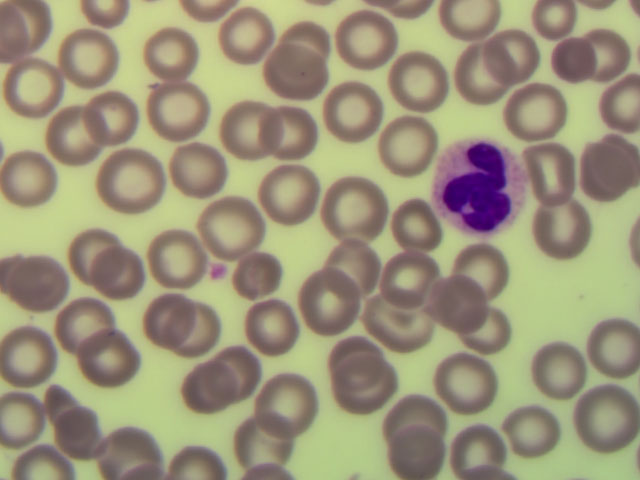Platelets: (209, 264, 229, 284)
RBC: (362, 277, 433, 353), (573, 382, 640, 457), (96, 140, 163, 212), (321, 174, 388, 242), (75, 324, 141, 393), (146, 224, 207, 297), (62, 389, 123, 460), (338, 14, 402, 75), (1, 323, 60, 387), (261, 163, 320, 227), (380, 243, 439, 307), (323, 237, 382, 301), (436, 348, 495, 412), (581, 316, 640, 380), (531, 335, 590, 399), (506, 402, 565, 466), (449, 416, 508, 480), (458, 416, 517, 480), (384, 385, 443, 449), (386, 416, 445, 480), (326, 326, 385, 390), (297, 272, 356, 336), (203, 197, 262, 261), (228, 248, 287, 312), (242, 300, 301, 364), (42, 101, 101, 165), (63, 226, 122, 290), (94, 243, 153, 307), (162, 297, 221, 361), (138, 292, 197, 356), (179, 359, 238, 423), (259, 370, 318, 434), (216, 403, 275, 467), (163, 416, 222, 480), (206, 346, 265, 410), (102, 416, 161, 480), (13, 416, 72, 480), (4, 55, 63, 119), (8, 250, 67, 314), (220, 98, 279, 162), (142, 23, 201, 87), (149, 77, 208, 141), (59, 25, 118, 89), (168, 140, 227, 204), (504, 80, 563, 144), (549, 24, 608, 88), (581, 22, 640, 86), (581, 18, 640, 82), (581, 76, 640, 140), (575, 144, 634, 208), (581, 128, 640, 192), (523, 136, 582, 200), (531, 199, 590, 263), (581, 215, 640, 279), (449, 244, 508, 308), (443, 282, 502, 346), (431, 267, 490, 331), (388, 51, 447, 115), (373, 109, 432, 173), (455, 40, 514, 104), (477, 21, 536, 85), (215, 4, 274, 68), (323, 79, 382, 143), (274, 12, 333, 76), (261, 102, 320, 166), (79, 89, 142, 148), (82, 1, 141, 64), (531, 1, 590, 64), (128, 1, 187, 64), (1, 386, 59, 450), (1, 143, 59, 207), (62, 389, 115, 459), (438, 1, 509, 53), (265, 42, 326, 101), (331, 354, 392, 410), (382, 201, 440, 258), (38, 381, 91, 439), (380, 1, 453, 39), (345, 1, 406, 46), (9, 1, 57, 57), (176, 1, 245, 35), (234, 450, 301, 480), (1, 1, 34, 60), (329, 441, 376, 480), (568, 1, 628, 31), (1, 250, 36, 300), (291, 1, 345, 20), (620, 1, 640, 28)
WBC: (433, 143, 527, 243)
